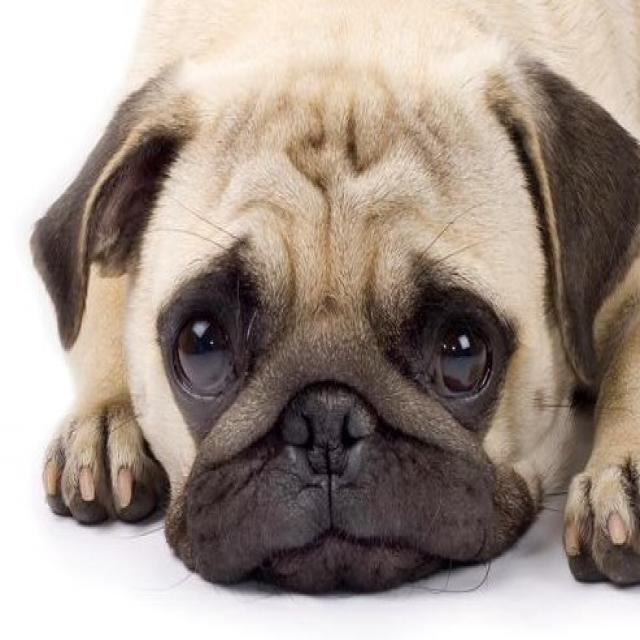eye: (419, 307, 497, 407), (170, 305, 242, 406)
